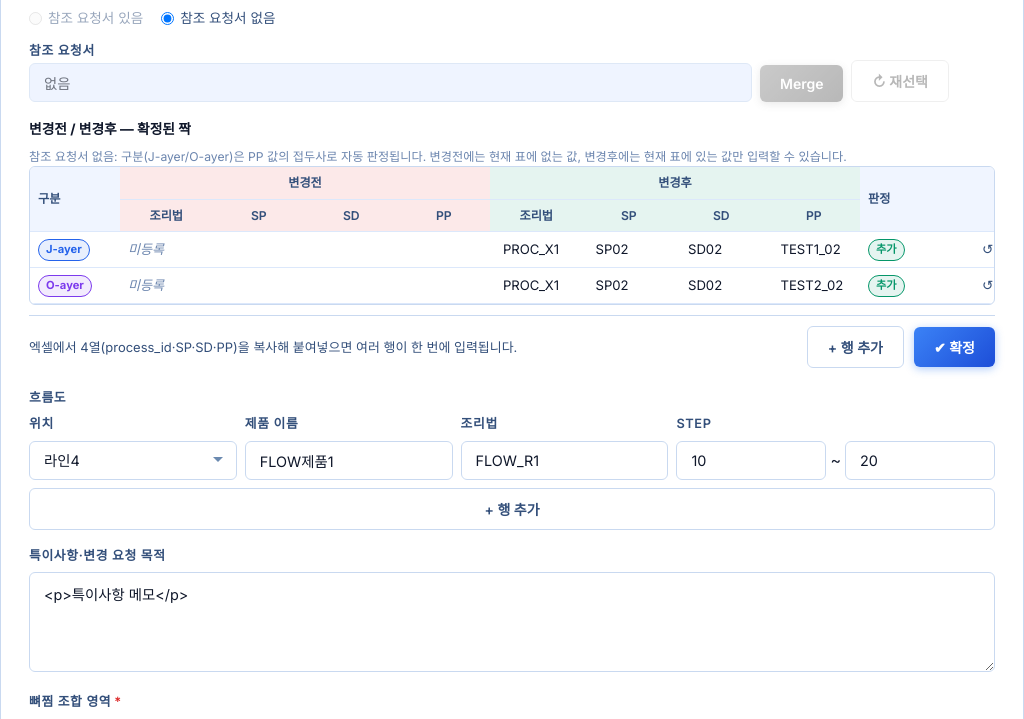
Test: 참조 요청서 '없음' 확정 → J/O 표 st 결정 › 표의 '확정'을 누르면 표가 잠기고, '변경'을 누르면 다시 편집할 수 있으며 '다음'에서 다시 확정을 묻는다
(page scrolled)
Click the button "✔ 확정" at (954, 347), box [914,327,995,367]
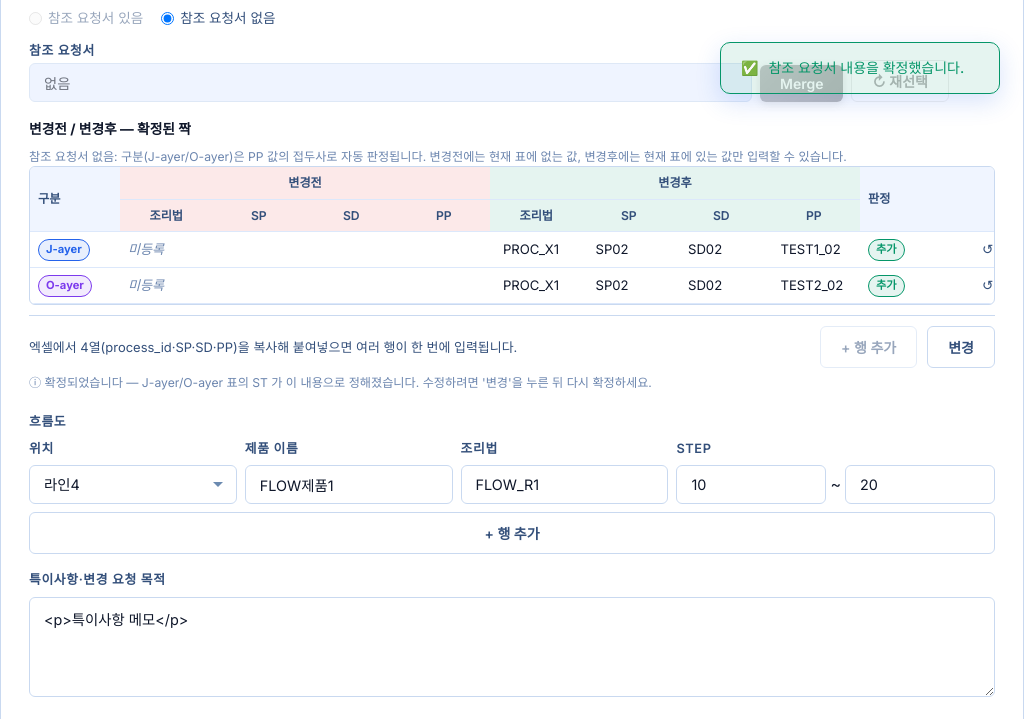
Expected: the 1st button "+ 행 추가" is disabled, [820,326,917,368]
Click the button "변경" at (961, 347), box [927,326,995,368]
(page scrolled)
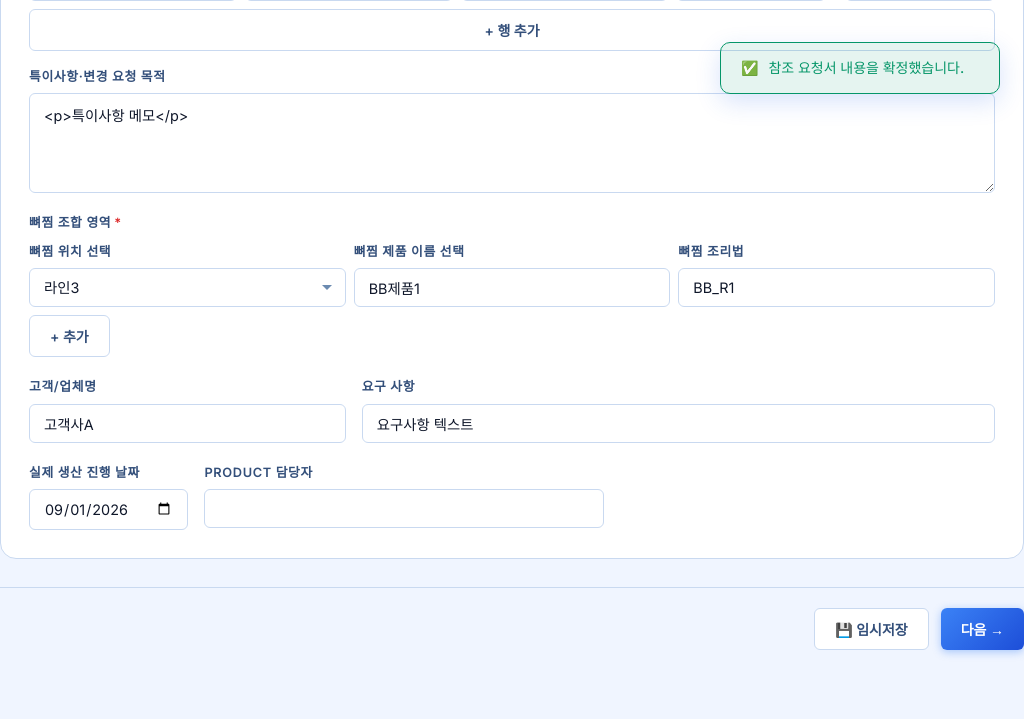
Click the button "다음 →" at (982, 629), box [941,608,1023,650]
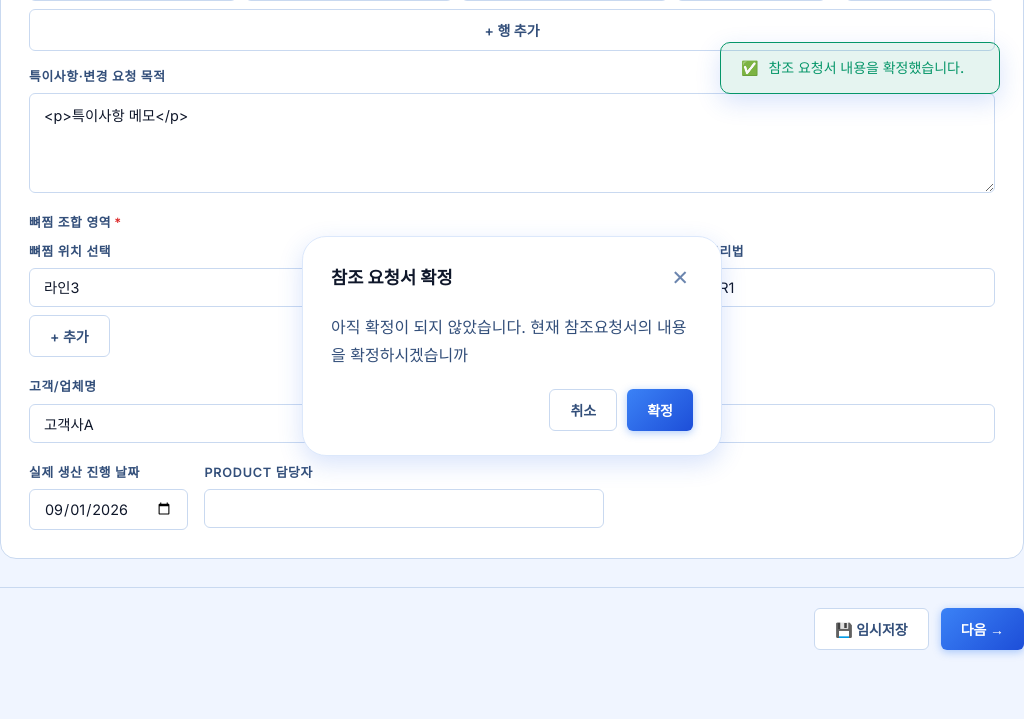
Expected: the text "아직 확정이 되지 않았습니다. 현재 참조요청서의 내용을 확정하시겠습니까" is shown, [331,314,693,369]
